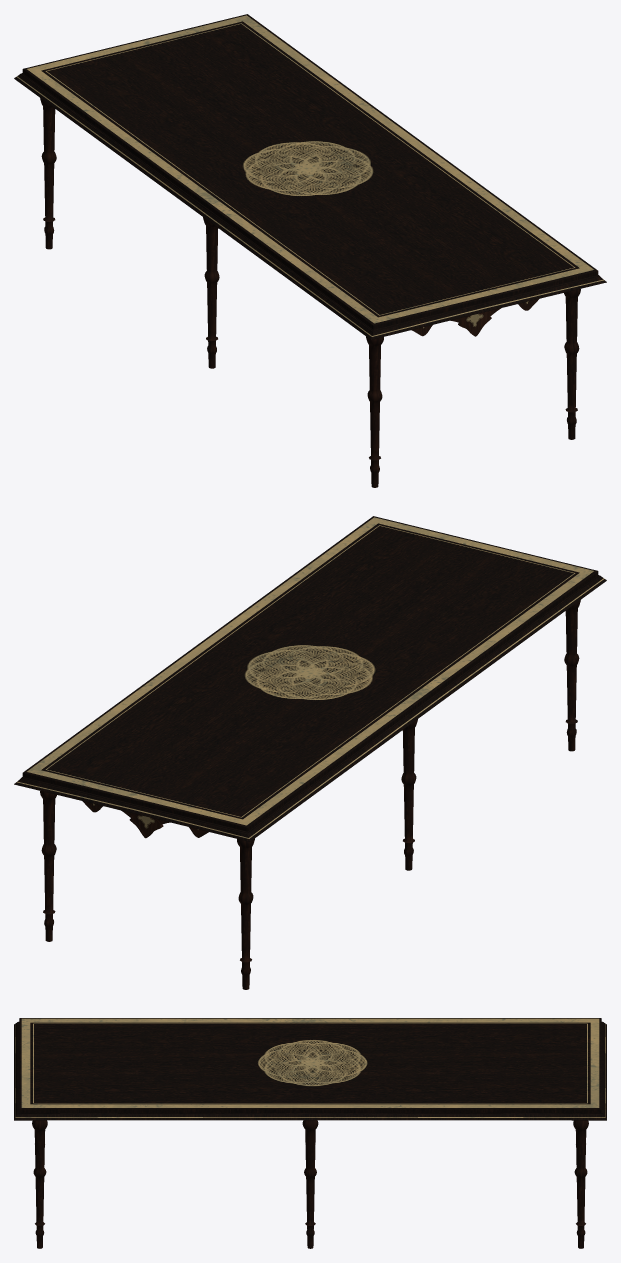
The model's file is gothic_table.glb.
3 views of the same model, one above another, from view 1: azimuth 30°, elevation 25°; view 2: azimuth 150°, elevation 25°; view 3: azimuth 270°, elevation 25° (orthographic). The views are drawn at different scales.
Visible parts, largest first — view 1: table, legs, beam; view 2: table, legs, beam; view 3: table, legs.
Boxes of the visible parts, x1,y1,x2,y2 form: table: [14, 14, 606, 339]; legs: [40, 98, 580, 487]; beam: [411, 299, 538, 336]; table: [14, 516, 606, 841]; legs: [40, 600, 580, 989]; beam: [82, 801, 208, 838]; table: [14, 1018, 606, 1120]; legs: [32, 1120, 588, 1248].
Size of the model in its own units: 135 by 95.35 by 355.
4 materials, 4 textured.
